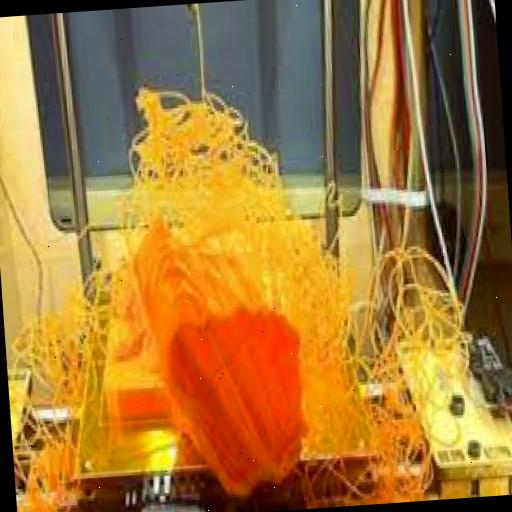spaghetti: (38, 44, 366, 342), (304, 244, 482, 502), (11, 302, 137, 512)
